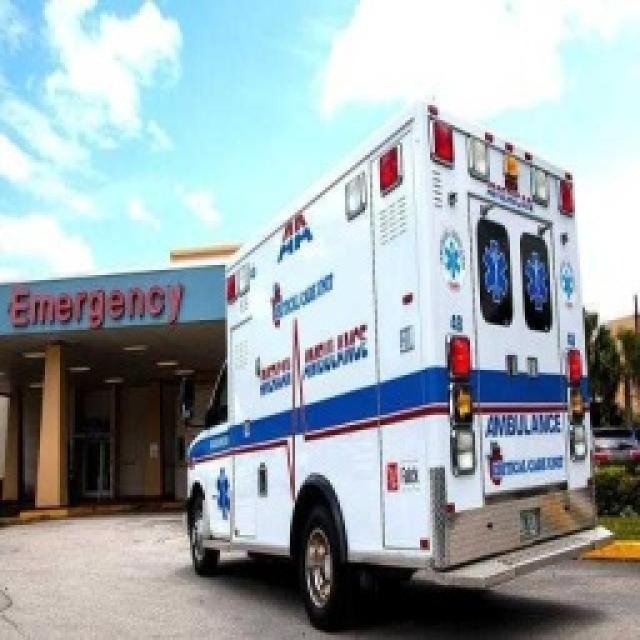emergency-vehicle: (186, 88, 624, 637)
